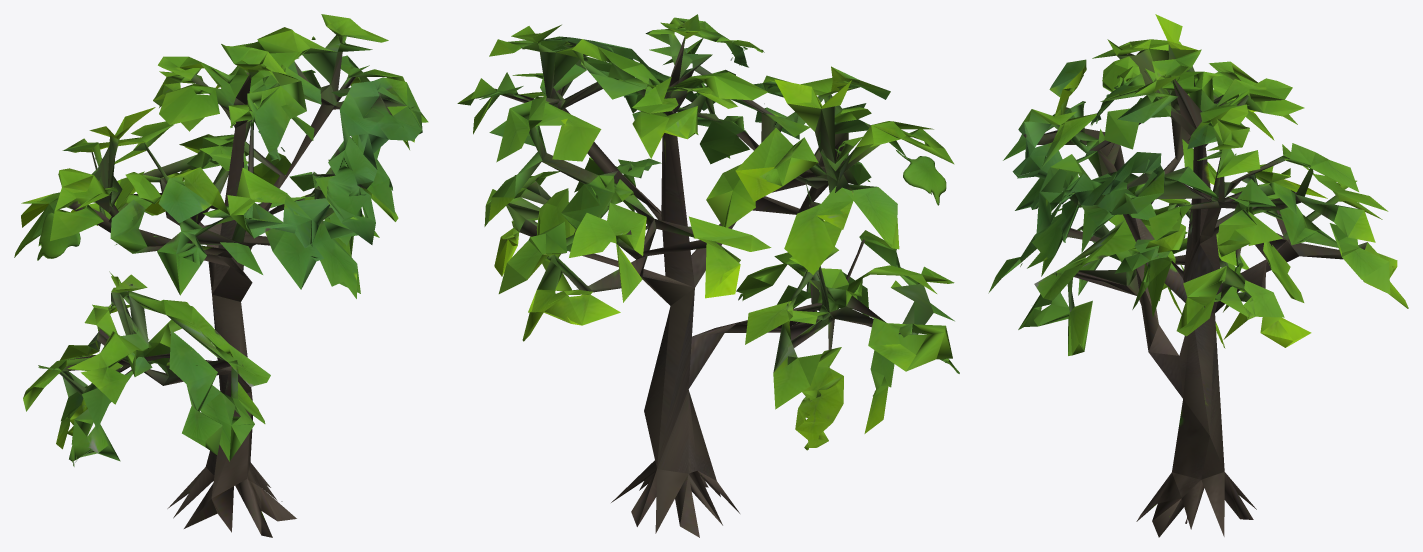
Rendered from VEG_ArbolTropical_04_LOD2.fbx.
3 views of the same model, side by side, from view 1: azimuth 30°, elevation 25°; view 2: azimuth 150°, elevation 25°; view 3: azimuth 270°, elevation 25° (orthographic). The views are drawn at different scales.
Visible parts, largest first — view 1: VEG_ArbolTropical_04_Mesh000; view 2: VEG_ArbolTropical_04_Mesh000; view 3: VEG_ArbolTropical_04_Mesh000.
Part boxes in pixels (x1,y1,x2,y2): VEG_ArbolTropical_04_Mesh000: (14,14,428,537); VEG_ArbolTropical_04_Mesh000: (457,14,959,537); VEG_ArbolTropical_04_Mesh000: (988,14,1408,537).
Size of the model in its own units: 15.16 by 16 by 13.13.
